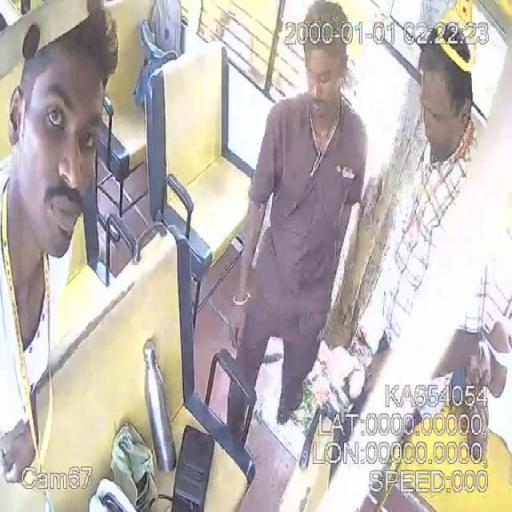persona: (303, 18, 510, 510), (224, 0, 369, 442), (1, 0, 120, 487)
